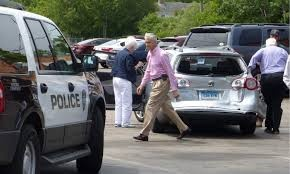Broken-glass: (177, 54, 245, 77)
Dent: (173, 73, 254, 108)
